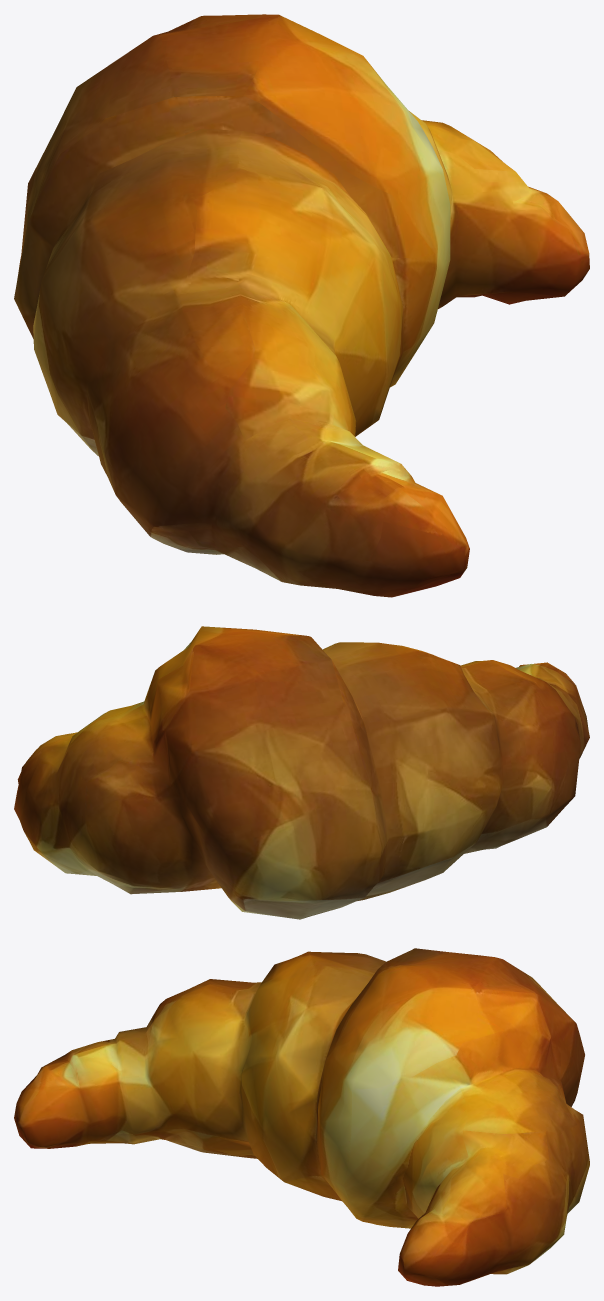
Rendered from item-croissant-1cead571.glb.
The picture shows the model from 3 angles, top to bottom: view 1: azimuth 30°, elevation 25°; view 2: azimuth 150°, elevation 25°; view 3: azimuth 270°, elevation 25°; orthographic projection. The views are drawn at different scales.
Visible parts, largest first — view 1: mvadapter_node_mvadapter; view 2: mvadapter_node_mvadapter; view 3: mvadapter_node_mvadapter.
Boxes of the visible parts, left/top/right/bottom form: mvadapter_node_mvadapter: left=14, top=14, right=589, bottom=597; mvadapter_node_mvadapter: left=14, top=626, right=589, bottom=919; mvadapter_node_mvadapter: left=14, top=948, right=589, bottom=1286.
Bounding box in the file's own units: 1.58 × 0.9207 × 1.87.
1 material, 1 textured.
